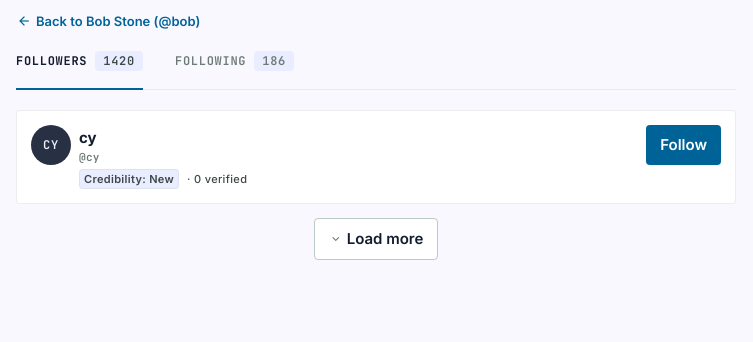
Test case: Connections › loads more with the cursor and ends with a note
Click the button "Load more": (376, 239) 314,218 -> 438,260
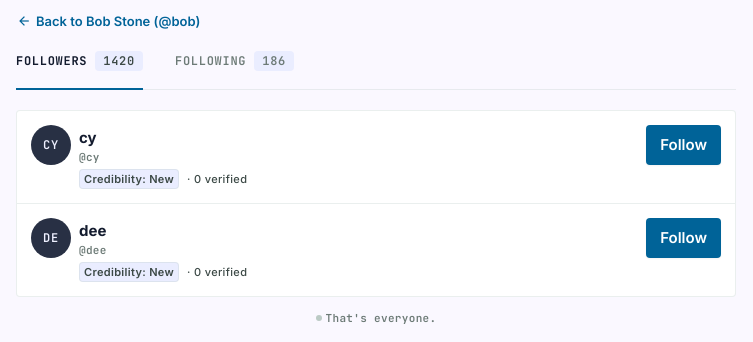
Check: the text "That's everyone." is shown, box 316,311 -> 436,325
